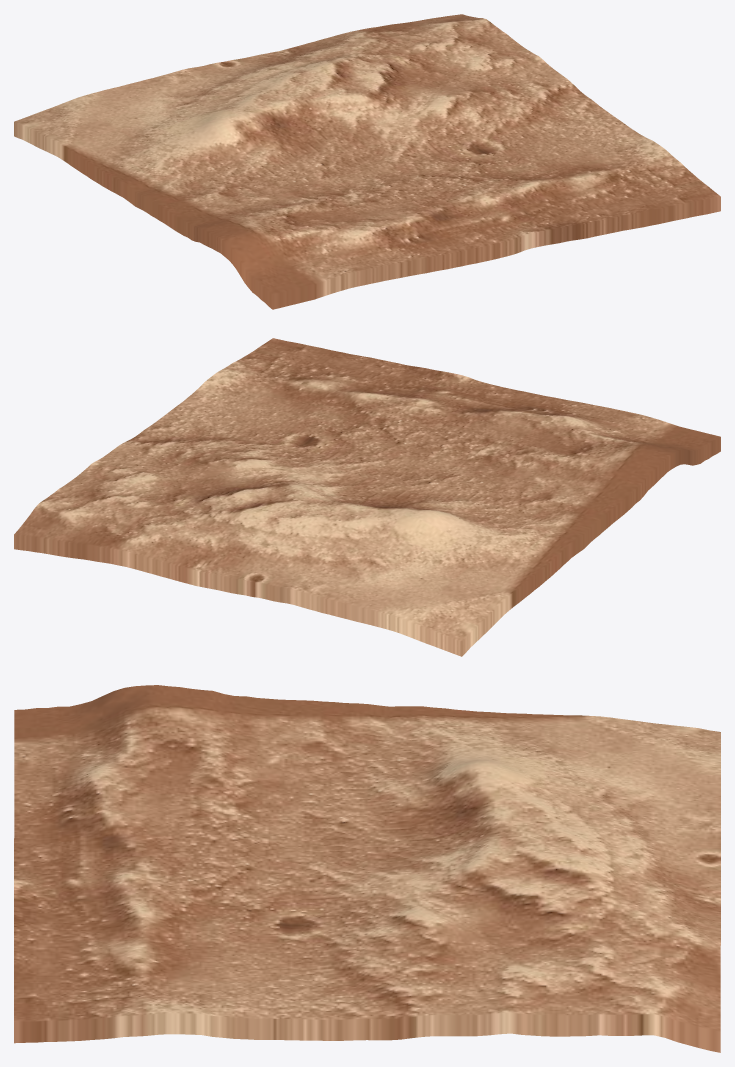
3 renders of one model, top to bottom at view 1: azimuth 30°, elevation 25°; view 2: azimuth 150°, elevation 25°; view 3: azimuth 270°, elevation 25°, orthographic. The views are drawn at different scales.
Visible parts, largest first — view 1: L5_9_4; view 2: L5_9_4; view 3: L5_9_4.
Part boxes in pixels (<box>): L5_9_4: <box>14,14,720,309</box>; L5_9_4: <box>14,338,720,656</box>; L5_9_4: <box>14,685,720,1052</box>.
Size of the model in its own units: 450 by 49.28 by 450.
Materials: 1 (1 with a texture image).
